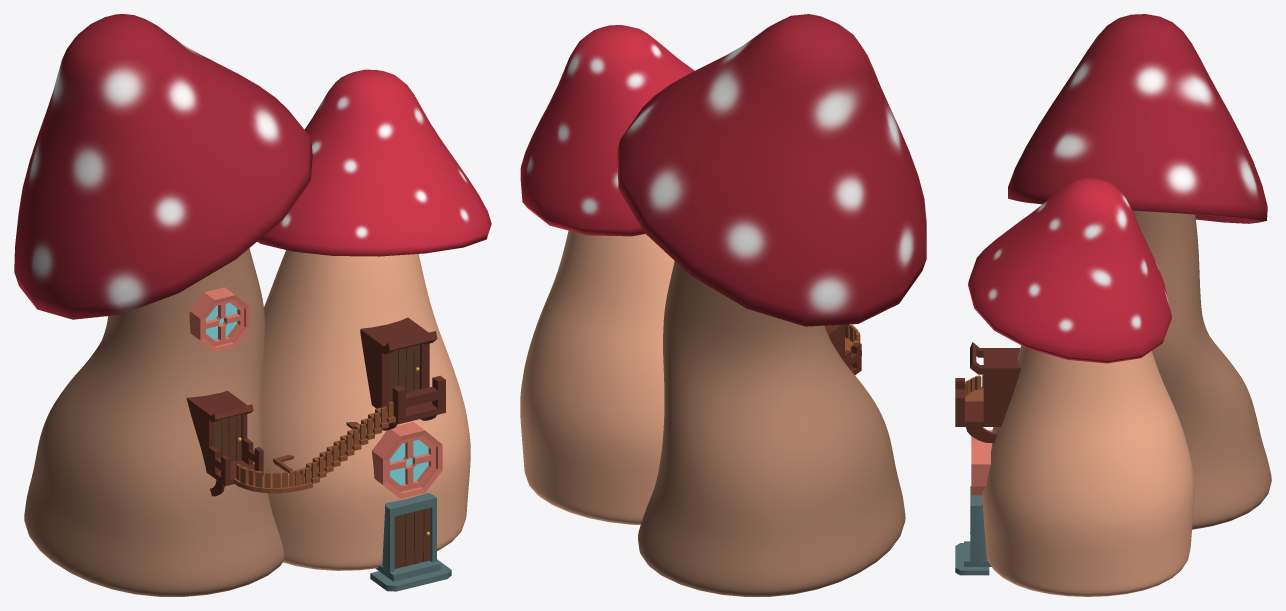
3 views of the same model, side by side, from view 1: azimuth 30°, elevation 25°; view 2: azimuth 150°, elevation 25°; view 3: azimuth 270°, elevation 25° (orthographic). The views are drawn at different scales.
Visible parts, largest first — view 1: LeftMushroom Top_1, Left Mushroom House_2, Right Mushroom House_0, Right Mushroom Top_3, Upstairs Door Frame_12, Stairs_19, Middle Door Frame_10, Downstairs Door Frame_8, Window1_22, Window2_23, Downstairs Door_7, Upstairs Door_11 (+2 smaller); view 2: LeftMushroom Top_1, Left Mushroom House_2, Right Mushroom House_0, Right Mushroom Top_3, Middle Door Frame_10; view 3: Right Mushroom House_0, LeftMushroom Top_1, Right Mushroom Top_3, Left Mushroom House_2, Upstairs Door Frame_12, Downstairs Door Frame_8, Window1_22, Stairs_19.
Part boxes in pixels (x1,y1,x2,y2): LeftMushroom Top_1: (14, 14, 312, 319); Left Mushroom House_2: (24, 248, 284, 596); Right Mushroom House_0: (261, 250, 470, 570); Right Mushroom Top_3: (257, 69, 491, 256); Upstairs Door Frame_12: (360, 317, 445, 430); Stairs_19: (233, 401, 395, 493); Middle Door Frame_10: (186, 390, 263, 496); Downstairs Door Frame_8: (370, 493, 451, 591); Window1_22: (371, 421, 442, 498); Window2_23: (189, 287, 249, 351); Downstairs Door_7: (394, 507, 430, 568); Upstairs Door_11: (389, 344, 419, 401); LeftMushroom Top_1: (617, 14, 926, 326); Left Mushroom House_2: (638, 261, 905, 596); Right Mushroom House_0: (520, 230, 674, 524); Right Mushroom Top_3: (520, 25, 694, 236); Middle Door Frame_10: (824, 324, 861, 375); Right Mushroom House_0: (981, 345, 1194, 596); LeftMushroom Top_1: (1008, 14, 1267, 223); Right Mushroom Top_3: (968, 178, 1171, 363); Left Mushroom House_2: (1133, 210, 1271, 529); Upstairs Door Frame_12: (955, 342, 1021, 443); Downstairs Door Frame_8: (955, 486, 991, 575); Window1_22: (971, 430, 992, 495); Stairs_19: (965, 374, 983, 401).
Bounding box in the file's own units: 17.11 × 21.63 × 13.32.
Materials: 12 (2 with a texture image).
